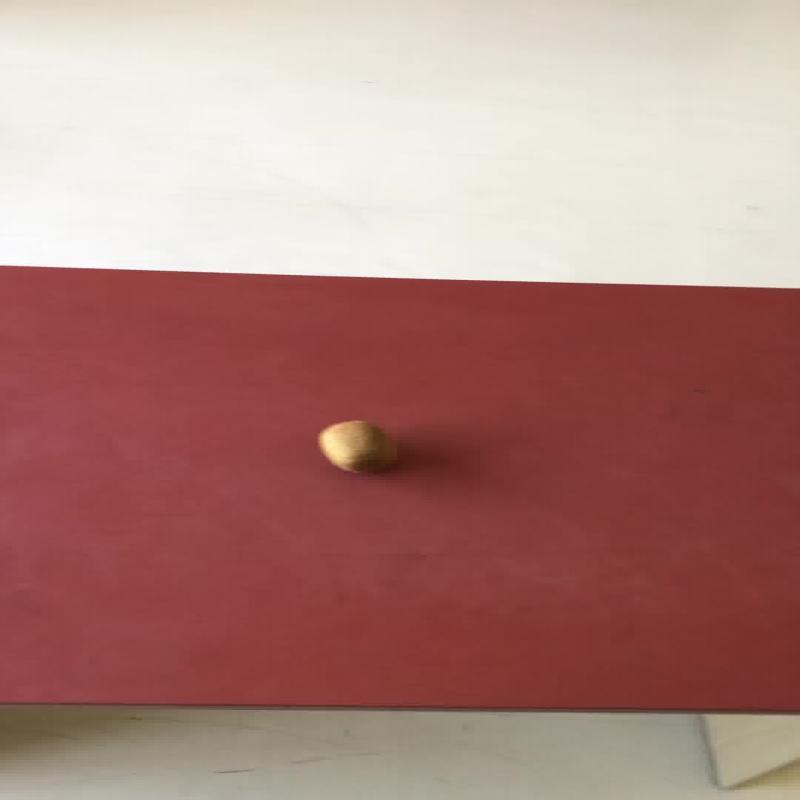kiwi: (316, 419, 396, 473)
